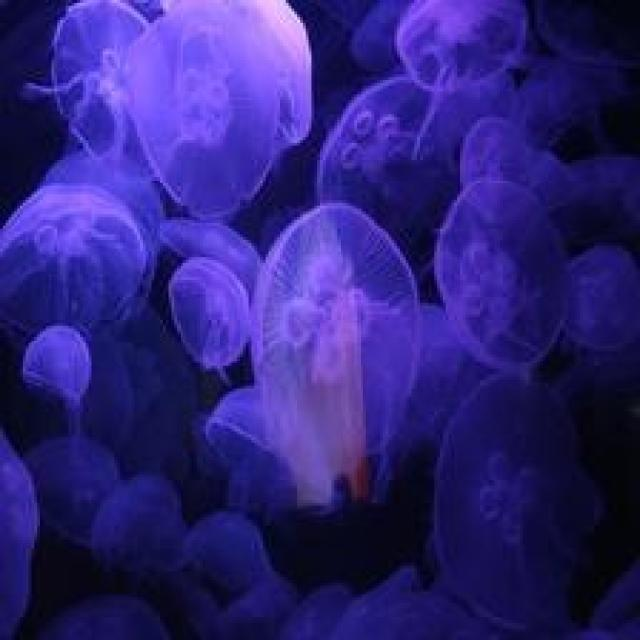Moon-jellyfish: (231, 196, 423, 512), (103, 27, 316, 219), (414, 166, 578, 394), (0, 182, 151, 360), (302, 76, 458, 203)
